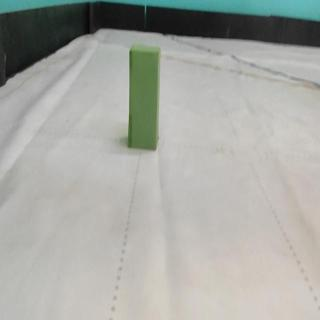greenbox: (127, 42, 164, 153)
